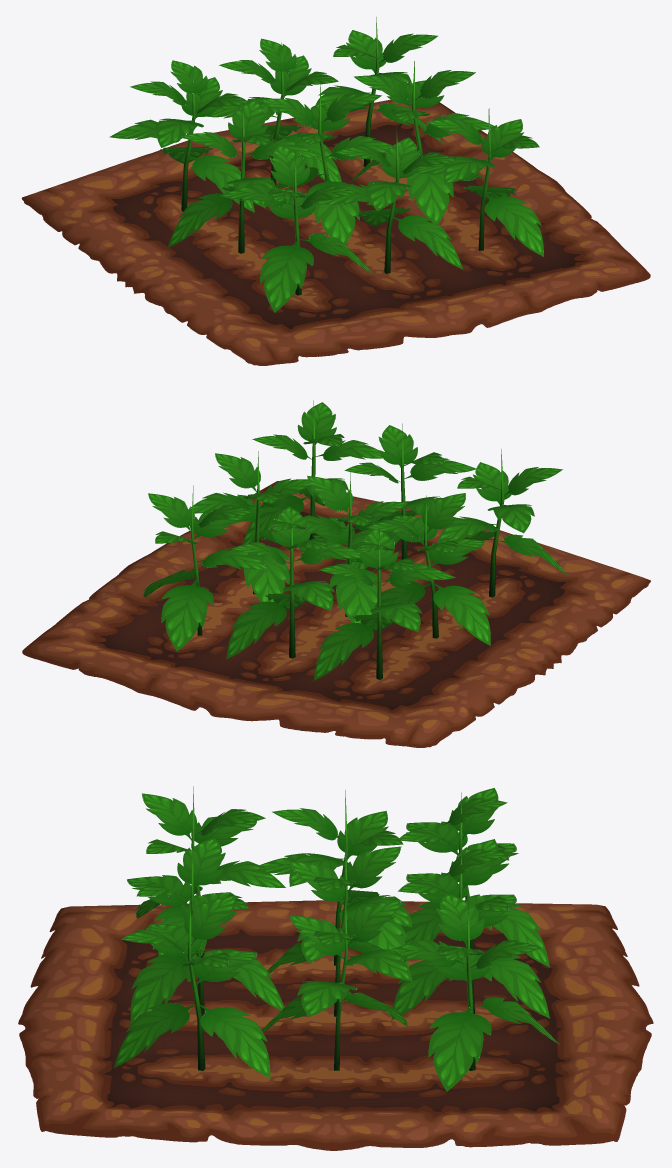
File: Tomato_Field_Lv2.FBX
3 views of the same model, one above another, from view 1: azimuth 30°, elevation 25°; view 2: azimuth 150°, elevation 25°; view 3: azimuth 270°, elevation 25° (orthographic). The views are drawn at different scales.
Visible parts, largest first — view 1: Tomato_Field_Lv2; view 2: Tomato_Field_Lv2; view 3: Tomato_Field_Lv2.
Boxes of the visible parts, <box> form: Tomato_Field_Lv2: <box>21,17,650,365</box>; Tomato_Field_Lv2: <box>22,400,650,747</box>; Tomato_Field_Lv2: <box>18,786,653,1150</box>.
Size of the model in its own units: 274 by 93.89 by 296.
